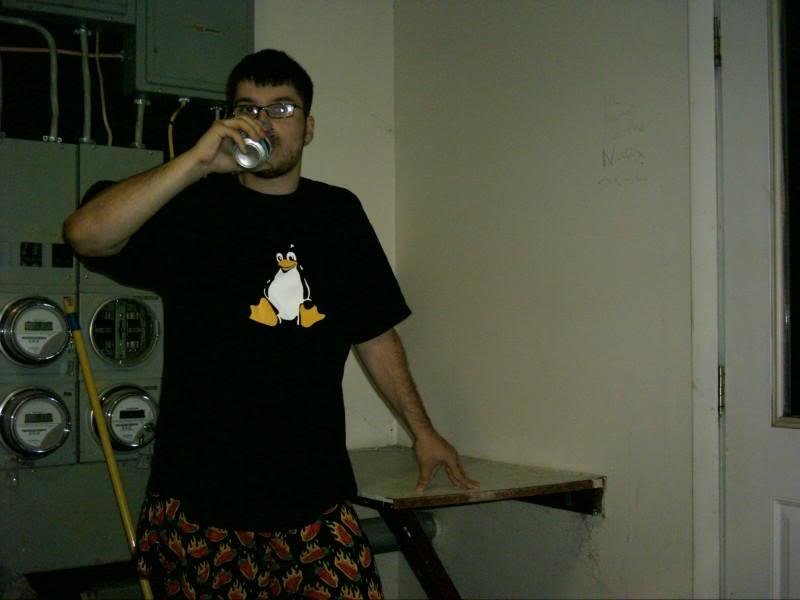person: (62, 47, 477, 600)
